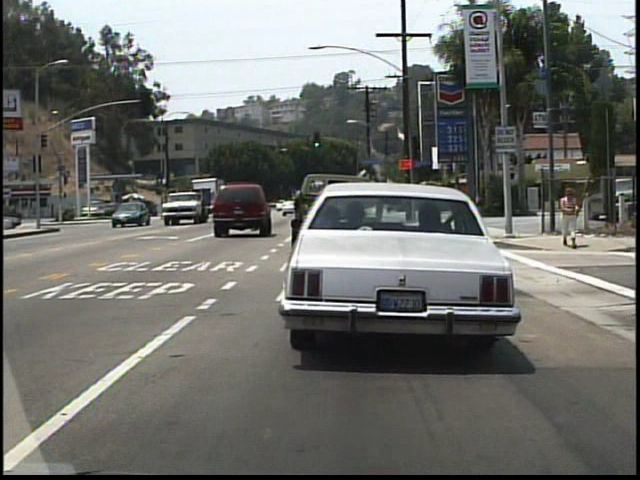person: (558, 183, 580, 248)
